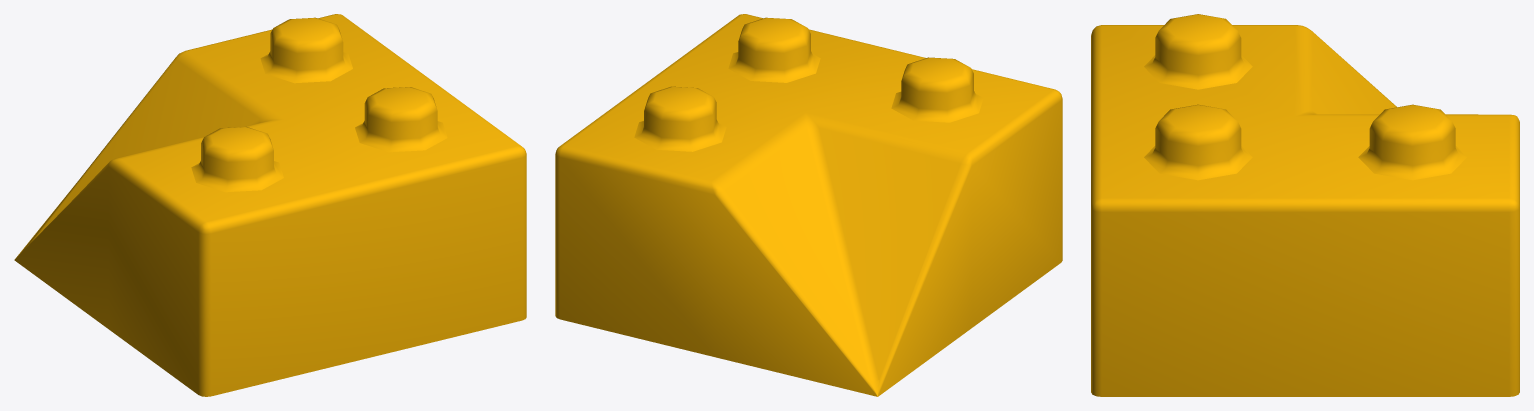
Rendered from Lowered_One_Corner_Half.fbx.
3 renders of one model, left to right at view 1: azimuth 30°, elevation 25°; view 2: azimuth 150°, elevation 25°; view 3: azimuth 270°, elevation 25°, orthographic. The views are drawn at different scales.
Visible parts, largest first — view 1: Lowered_One_Corner_Half, Knobs.015; view 2: Lowered_One_Corner_Half, Knobs.015; view 3: Lowered_One_Corner_Half, Knobs.015.
Part boxes in pixels (x1=…): Lowered_One_Corner_Half: x1=14, y1=14, x2=526, y2=396; Knobs.015: x1=191, y1=17, x2=447, y2=192; Lowered_One_Corner_Half: x1=555, y1=14, x2=1062, y2=396; Knobs.015: x1=634, y1=17, x2=983, y2=151; Lowered_One_Corner_Half: x1=1091, y1=25, x2=1519, y2=396; Knobs.015: x1=1144, y1=14, x2=1466, y2=180.
Size of the model in its own units: 1 by 0.6 by 1.
